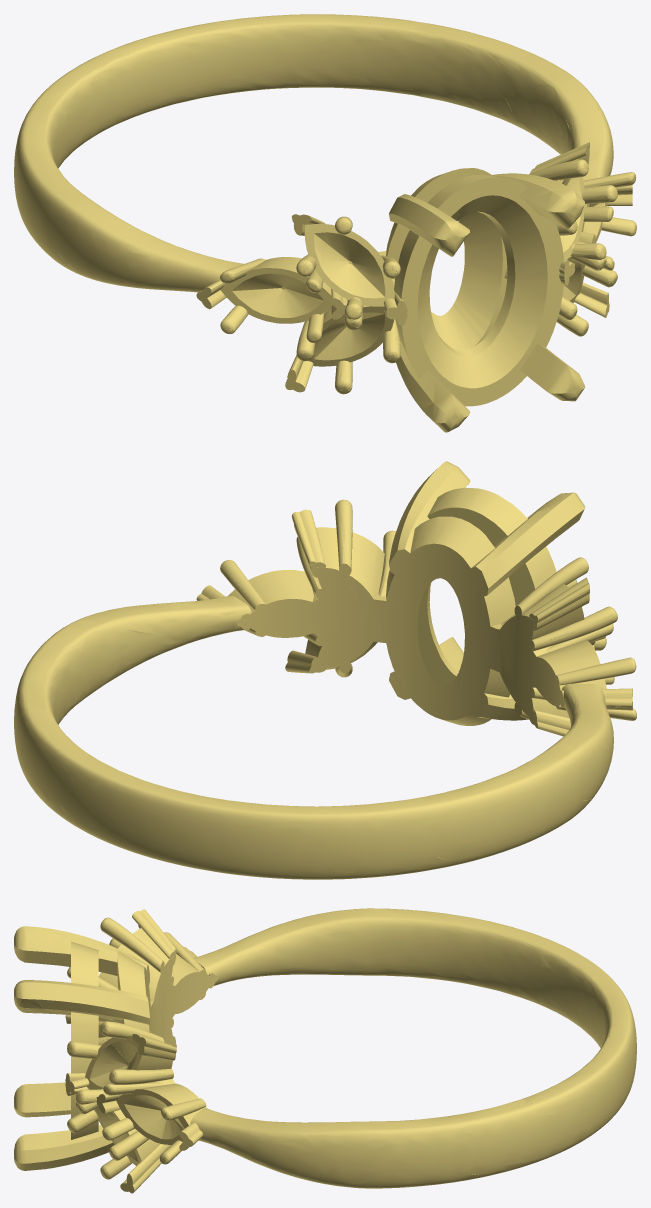
3 views of the same model, one above another, from view 1: azimuth 30°, elevation 25°; view 2: azimuth 150°, elevation 25°; view 3: azimuth 270°, elevation 25° (orthographic). The views are drawn at different scales.
Visible parts, largest first — view 1: 20-10002l; view 2: 20-10002l; view 3: 20-10002l.
Part boxes in pixels (x1=…): 20-10002l: x1=14, y1=14, x2=636, y2=432; 20-10002l: x1=14, y1=461, x2=636, y2=879; 20-10002l: x1=14, y1=908, x2=636, y2=1193.
Size of the model in its own units: 0.8742 by 0.3572 by 1.
